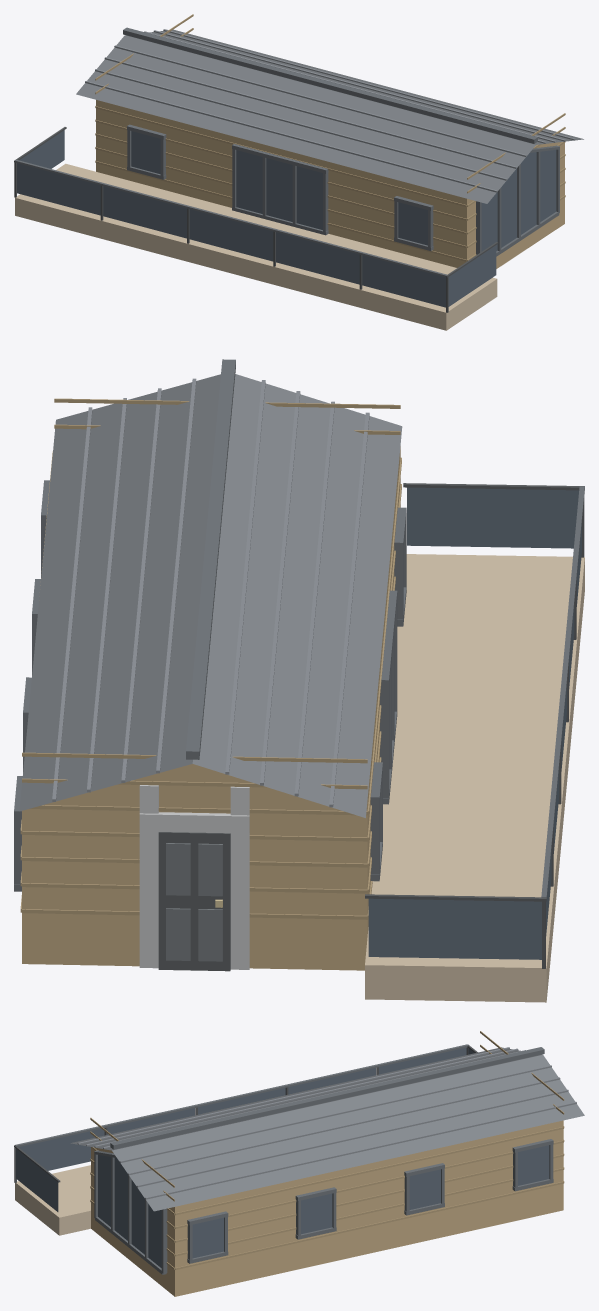
The picture shows the model from 3 angles, top to bottom: view 1: azimuth 30°, elevation 25°; view 2: azimuth 150°, elevation 25°; view 3: azimuth 270°, elevation 25°; orthographic projection. The views are drawn at different scales.
Visible parts, largest first — view 1: slate, door_wood, larch, slate_dk, slate_lt, door_wood_p, window_glass_013, window_glass_003, window_glass_005, window_glass_004, window_glass_001, window_glass_002 (+8 smaller); view 2: slate, larch, door_wood, slate_dk, slate_lt, door_wood_p, window_glass_006, window_glass_007, stone_band, door_dark_p, door_dark, pipe; view 3: slate, door_wood, slate_dk, slate_lt, door_wood_p, window_glass_013, larch, window_glass_005, window_glass_007, window_glass_017, window_glass_014, window_glass_016 (+6 smaller).
Boxes of the visible parts, bbox=[...] form: slate: bbox=[76, 29, 583, 203]; door_wood: bbox=[96, 100, 564, 268]; larch: bbox=[15, 163, 497, 330]; slate_dk: bbox=[15, 27, 559, 277]; slate_lt: bbox=[85, 29, 575, 192]; door_wood_p: bbox=[95, 14, 565, 261]; window_glass_013: bbox=[481, 150, 556, 251]; window_glass_003: bbox=[189, 209, 273, 261]; window_glass_005: bbox=[362, 255, 445, 307]; window_glass_004: bbox=[276, 232, 359, 284]; window_glass_001: bbox=[17, 163, 100, 215]; window_glass_002: bbox=[103, 186, 186, 238]; slate: bbox=[19, 374, 402, 817]; larch: bbox=[365, 554, 584, 1002]; door_wood: bbox=[22, 446, 400, 970]; slate_dk: bbox=[14, 359, 584, 898]; slate_lt: bbox=[52, 378, 369, 807]; door_wood_p: bbox=[20, 398, 401, 919]; window_glass_006: bbox=[368, 898, 541, 959]; window_glass_007: bbox=[407, 487, 579, 548]; stone_band: bbox=[139, 785, 249, 969]; door_dark_p: bbox=[166, 843, 222, 961]; door_dark: bbox=[158, 832, 230, 971]; pipe: bbox=[365, 483, 584, 968]; slate: bbox=[70, 1047, 584, 1211]; door_wood: bbox=[91, 1120, 563, 1296]; slate_dk: bbox=[15, 1044, 553, 1274]; slate_lt: bbox=[77, 1047, 576, 1199]; door_wood_p: bbox=[90, 1031, 564, 1269]; window_glass_013: bbox=[98, 1155, 161, 1267]; larch: bbox=[15, 1165, 90, 1235]; window_glass_005: bbox=[18, 1128, 104, 1170]; window_glass_007: bbox=[16, 1149, 58, 1211]; window_glass_017: bbox=[518, 1145, 549, 1185]; window_glass_014: bbox=[192, 1217, 223, 1258]; window_glass_016: bbox=[409, 1169, 440, 1209].
Bounding box in the file's own units: 12.04 × 3.42 × 14.35.
